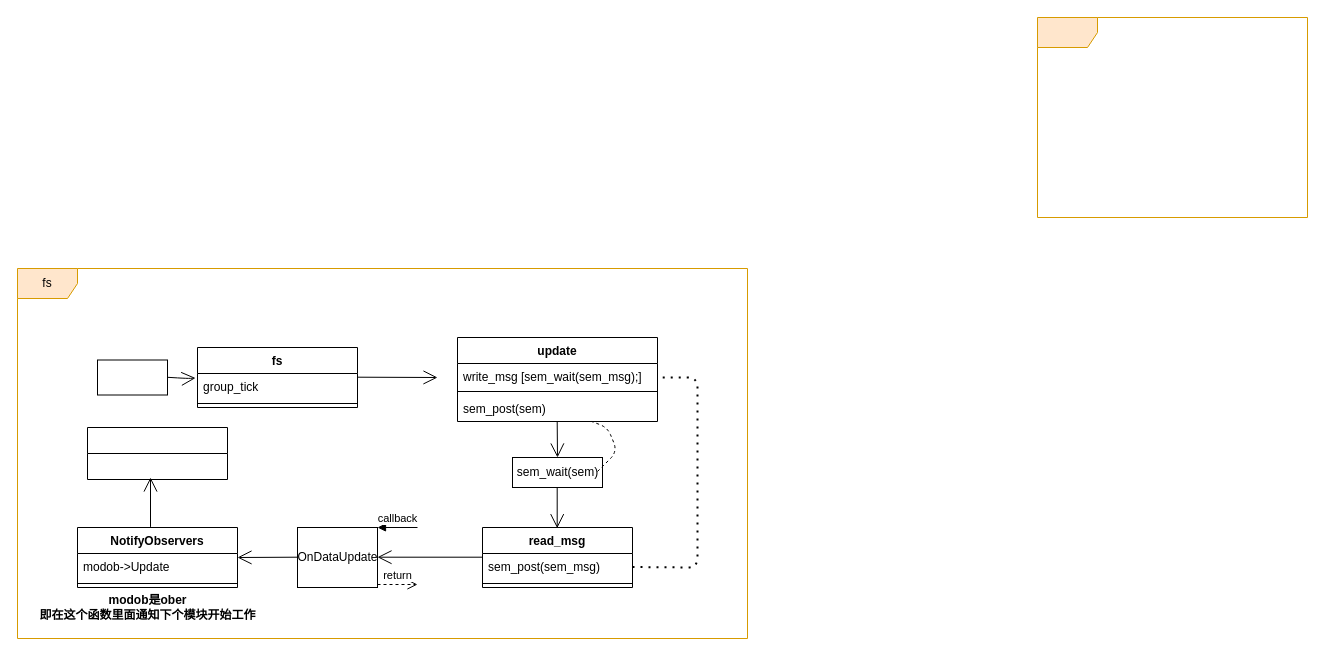
This 1325x656 diagram has some shape labels left out. Here are the shapes that lost their labels. From the top down, the centre of each, then its label:
pixel 1172 117: enc
pixel 132 377: stream on
pixel 157 453: bind group
